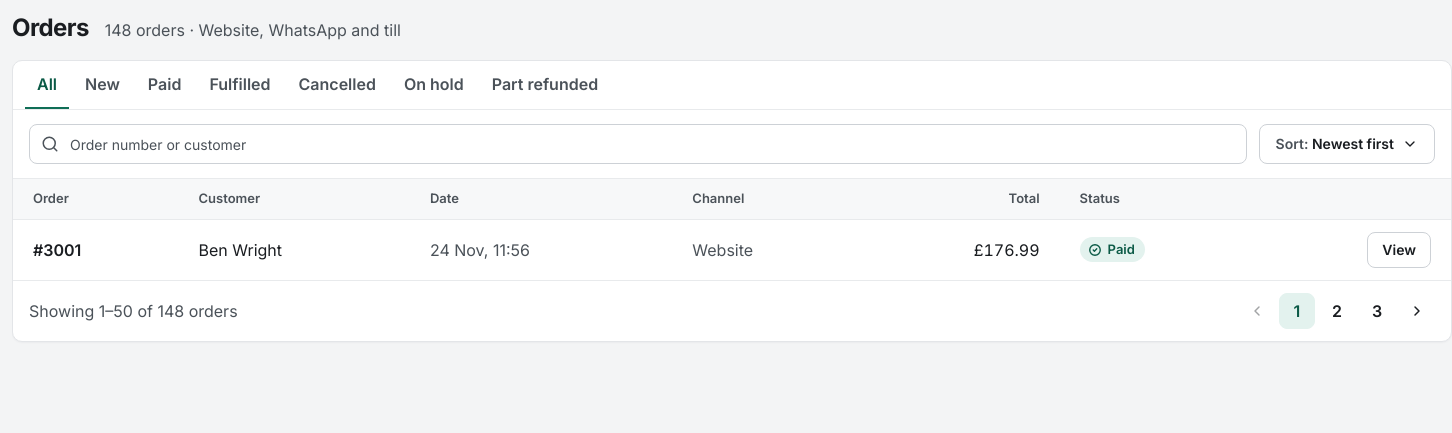
Test: OrdersPage › moves back to the last page when the requested page no longer exists
Click the button named "Next page". click: (1417, 310)
box: [1399, 292, 1435, 328]
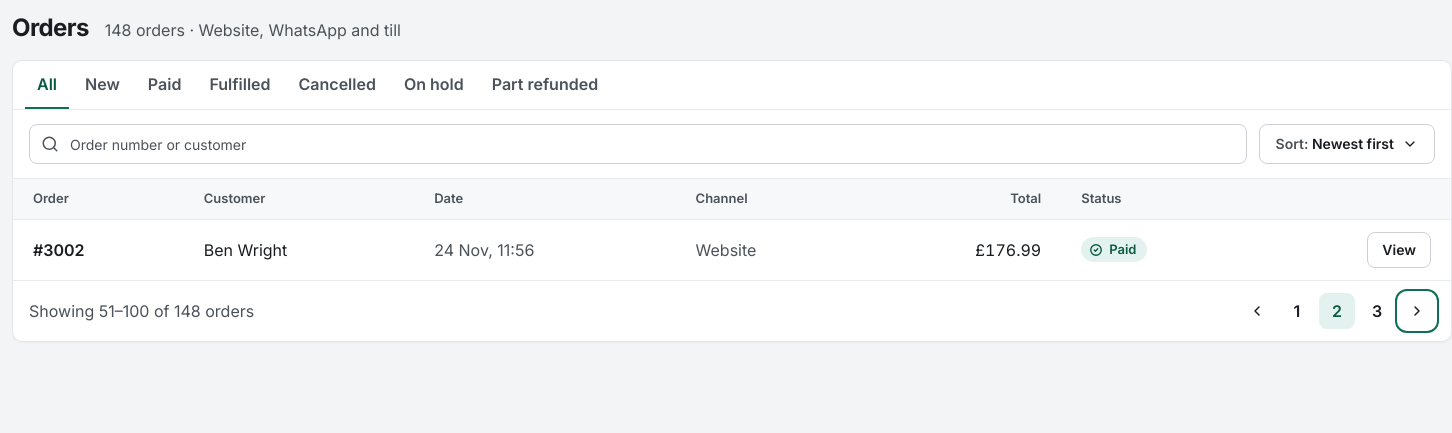
Click the button named "Next page". click: (1417, 310)
box: [1399, 292, 1435, 328]
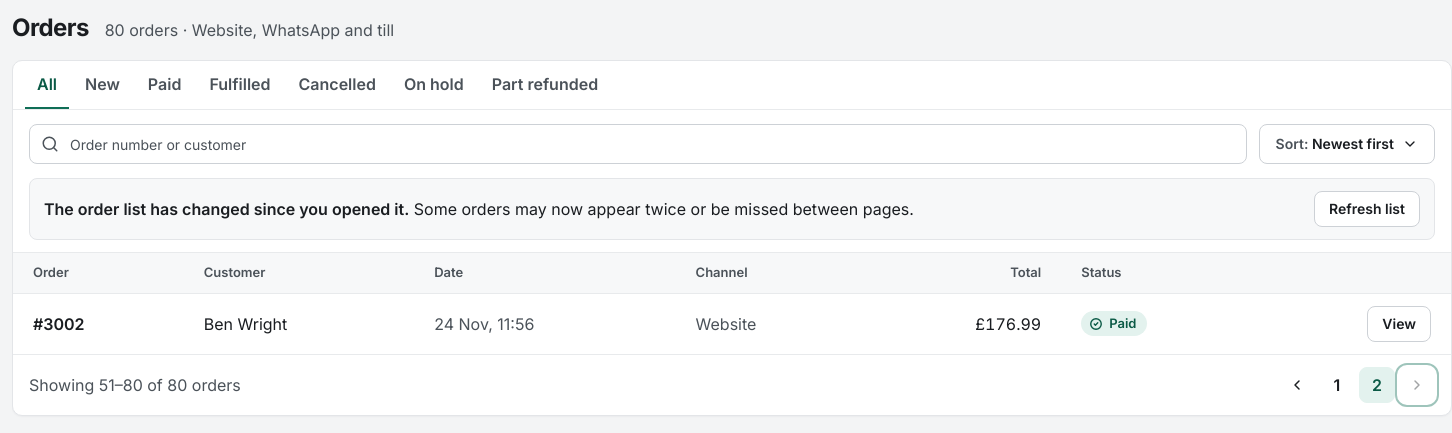
Check: the column heading "#3002" is shown, box [13, 294, 184, 354]
Check: the text "Showing 51–80 of 80 orders" is shown, box [29, 372, 241, 396]
